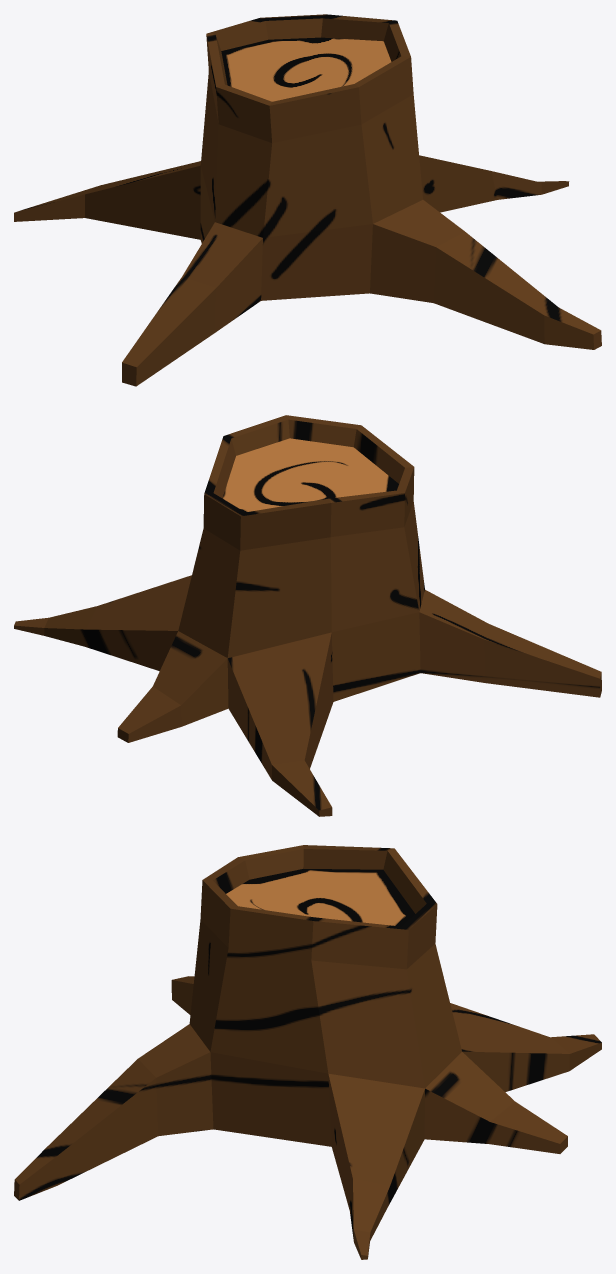
File: SM_TreeStump_Medium.fbx
3 renders of one model, top to bottom at view 1: azimuth 30°, elevation 25°; view 2: azimuth 150°, elevation 25°; view 3: azimuth 270°, elevation 25°, orthographic. The views are drawn at different scales.
Parts seen in each view (by area): view 1: SM_TreeStump_Medium; view 2: SM_TreeStump_Medium; view 3: SM_TreeStump_Medium.
Boxes of the visible parts, x1,y1,x2,y2 form: SM_TreeStump_Medium: (14, 14, 601, 386); SM_TreeStump_Medium: (14, 415, 601, 816); SM_TreeStump_Medium: (14, 845, 601, 1259).
Bounding box in the file's own units: 17.15 × 15.8 × 7.41.
